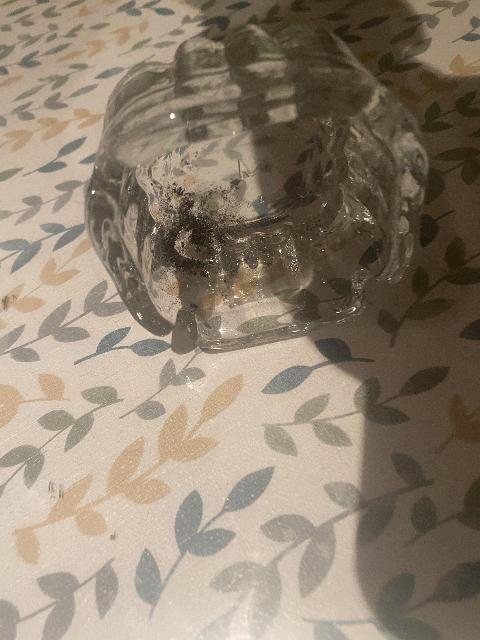Cam: (83, 27, 430, 346)
